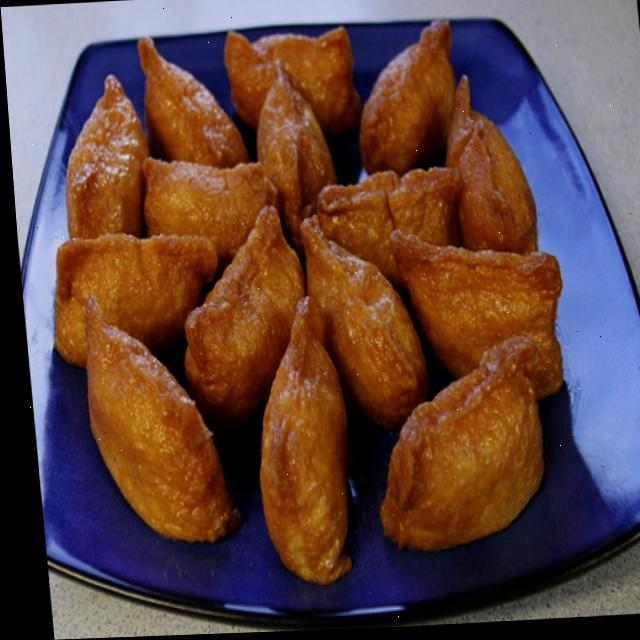寿司卷物: (3, 0, 610, 614)
